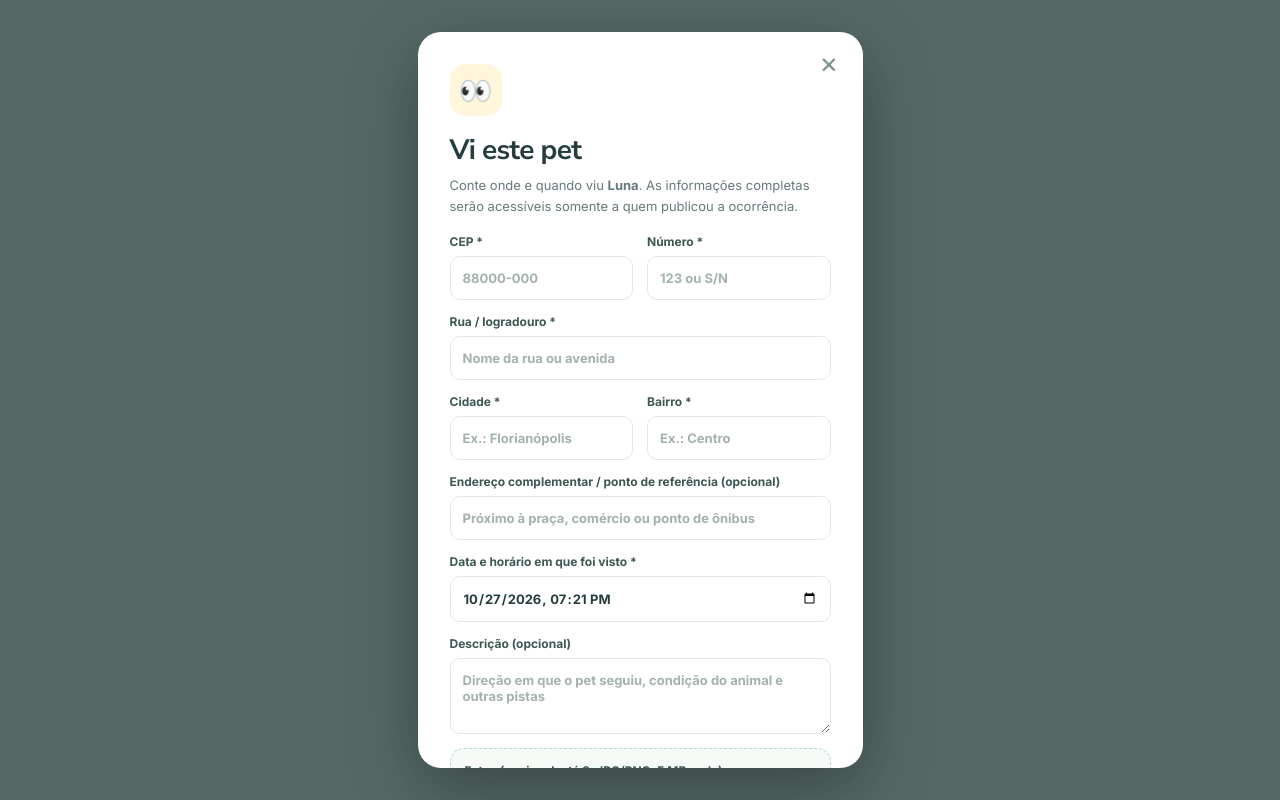
Test: Autopreenchimento ViaCEP em avistamentos › não altera cidade corrigida pelo usuário antes da resposta
This screenshot has width=1280, height=800.
Type "88000000" into the field with placeholder "88000-000" at (541, 278), box x1=450 y1=256 x2=633 y2=300
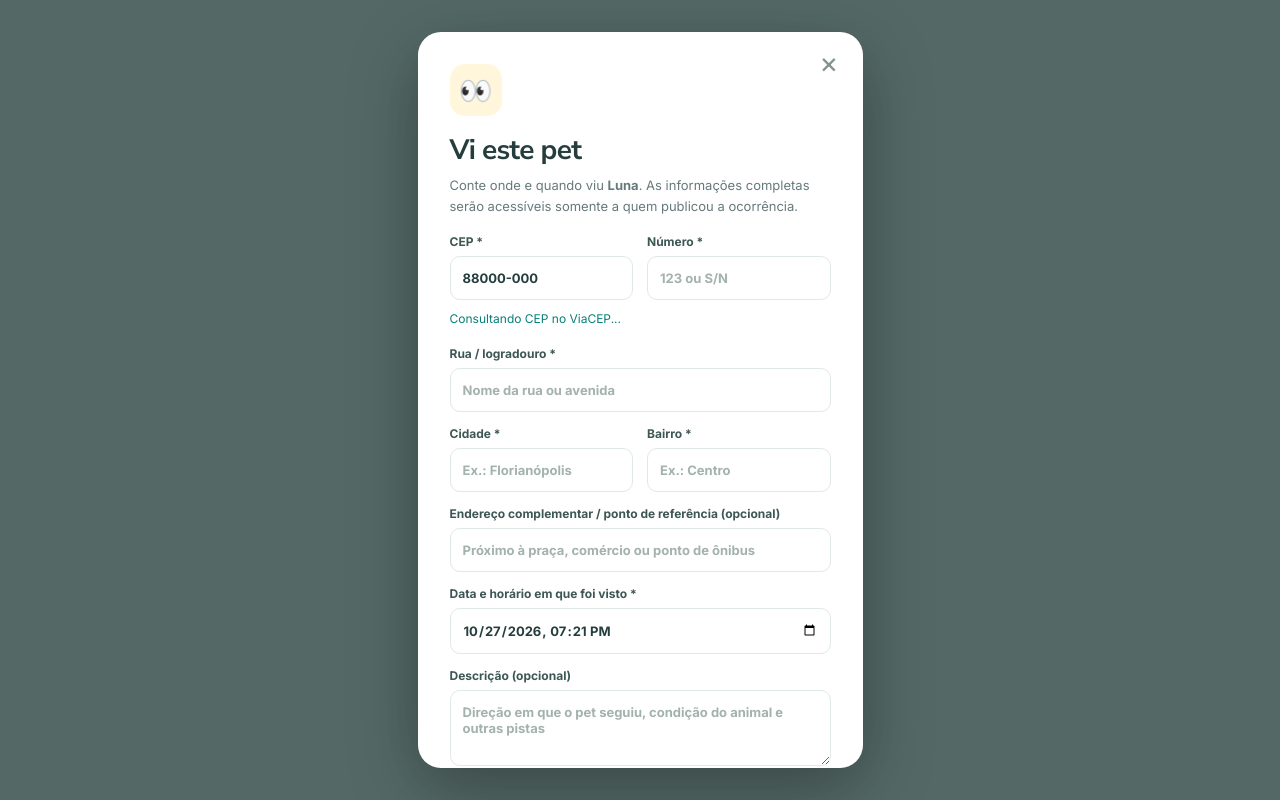
Type "São José" into the field with placeholder "Ex.: Florianópolis" at (541, 470), box x1=450 y1=448 x2=633 y2=492
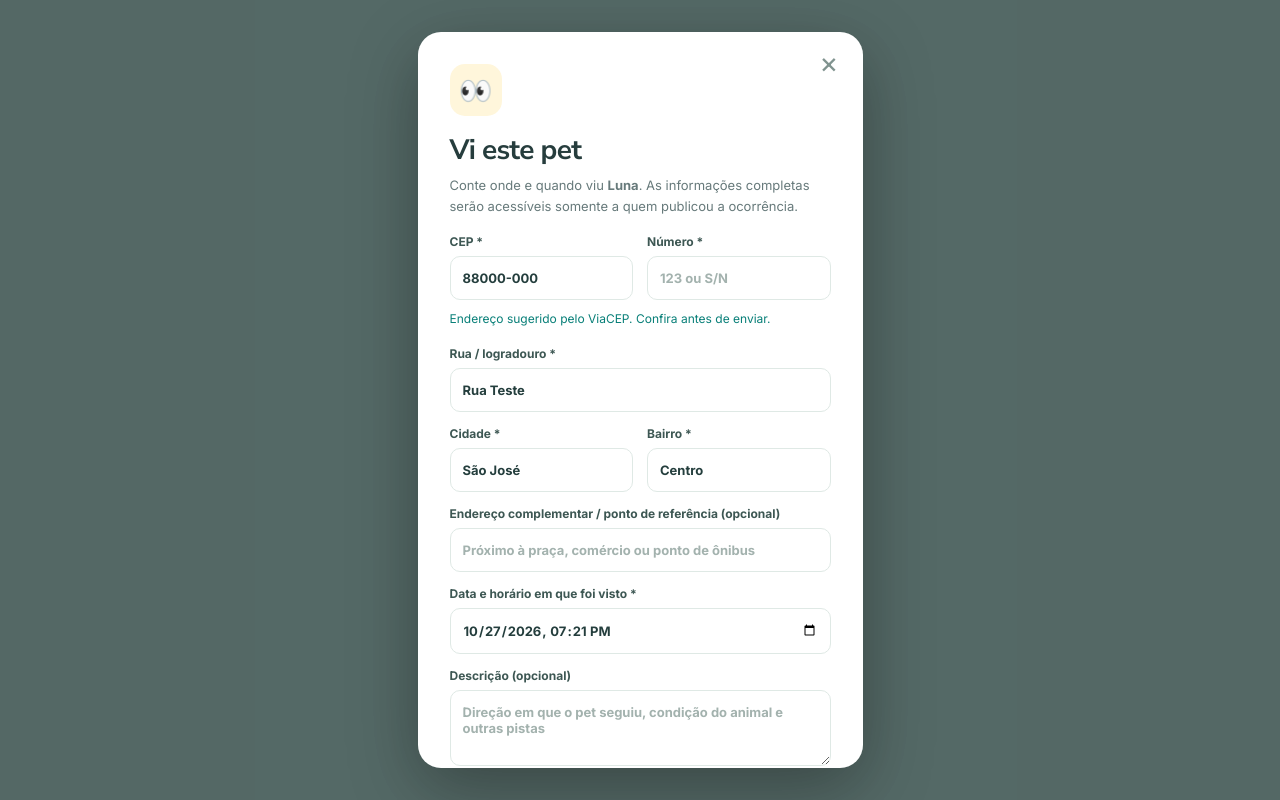
Now the field with placeholder "Nome da rua ou avenida" holds "Rua Teste", box x1=450 y1=368 x2=830 y2=412
